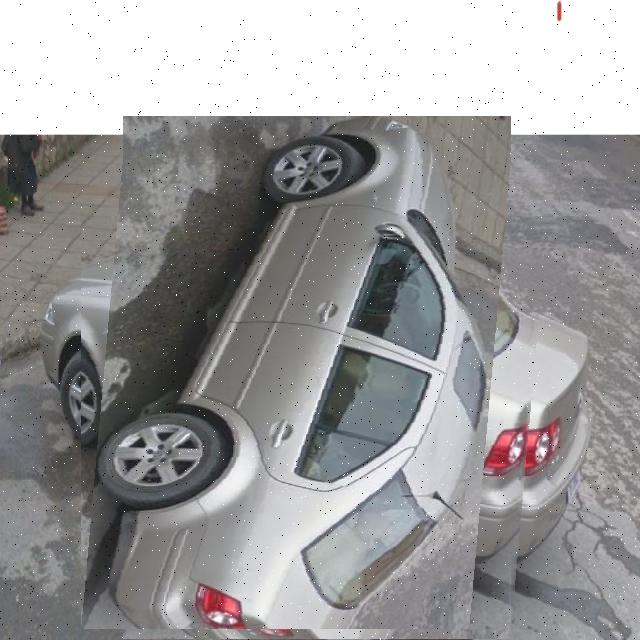car: (82, 159, 554, 630)
